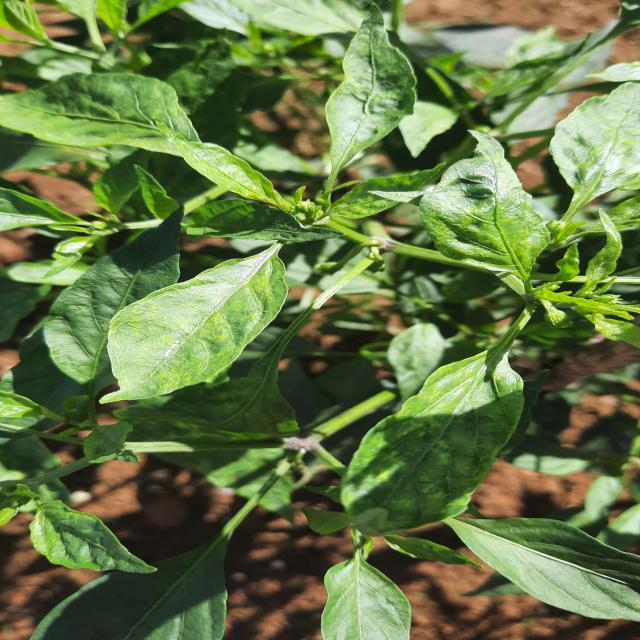thrips: (336, 310, 552, 549), (88, 229, 279, 406)
